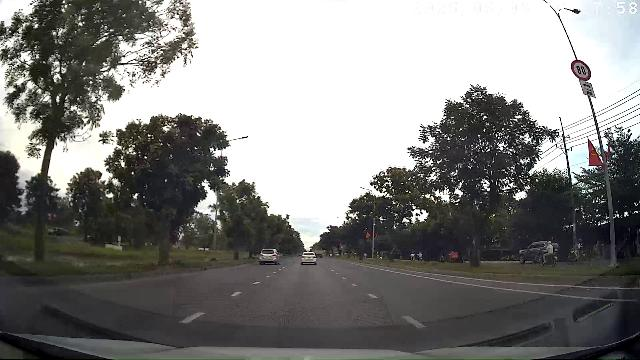127-toc-do-toi-da-80: (571, 60, 592, 81)
